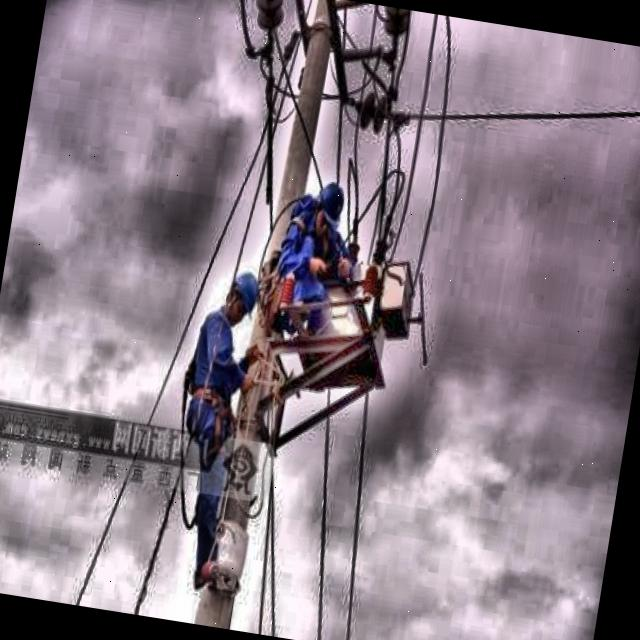helmet: (223, 260, 263, 326), (308, 178, 350, 238)
